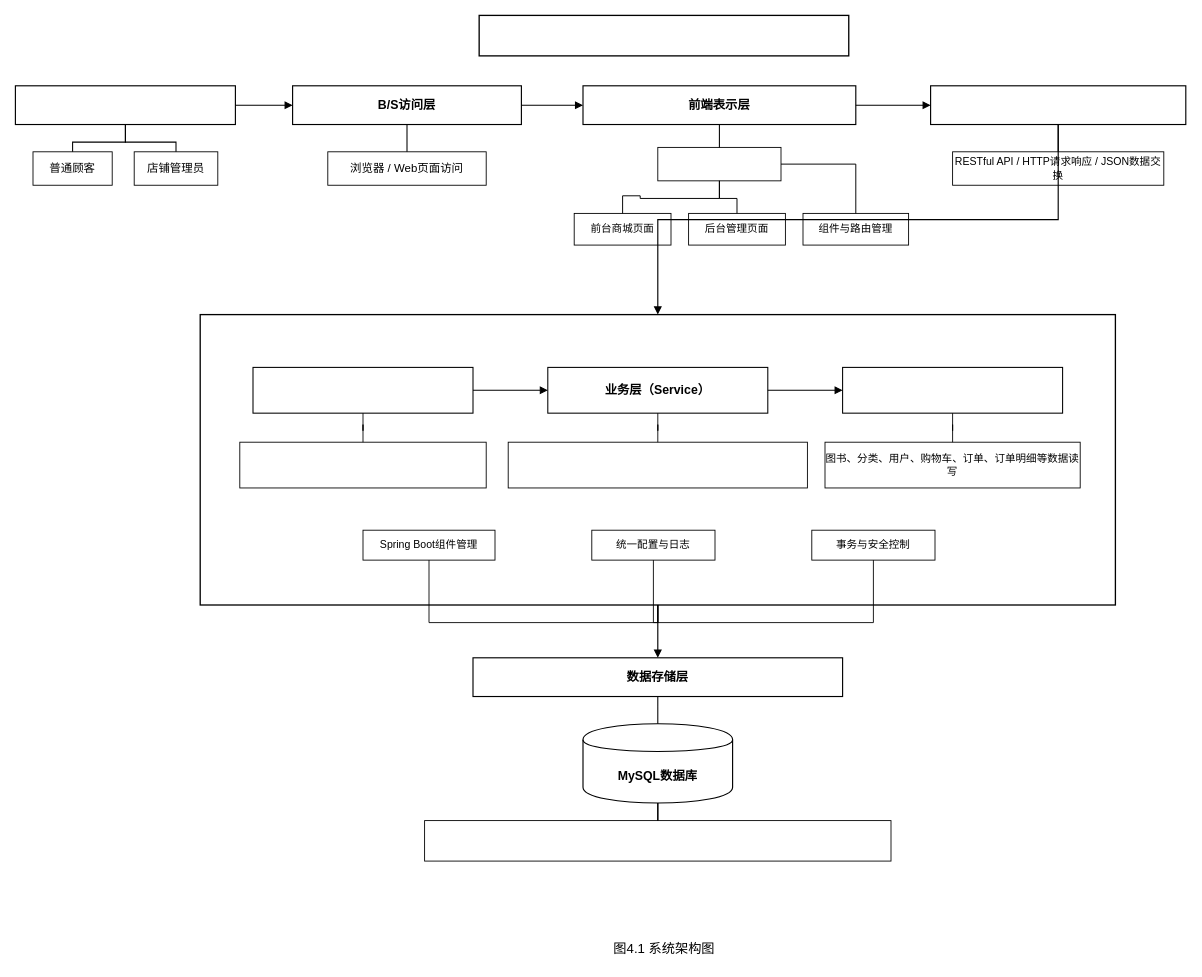
The diagram is 1202 pixels wide and 977 high, and some of its shapes have lost their labels. Here are the shapes that lost their labels. From the top down, the centre of each, then its label:
[663,35]: 图书商城管理系统架构
[125,105]: 用户层
[1058,105]: 前后端通信
[719,164]: Vue单页面应用
[362,389]: 接口层（Controller）
[952,389]: 数据访问层（MyBatis / Mapper）
[362,464]: 请求接收、参数校验、结果封装、异常处理、权限拦截
[657,464]: 用户认证、图书管理、购物车处理、订单生成、库存扣减、状态流转、事务控制
[657,840]: 存储图书信息、分类信息、用户信息、购物车记录、订单数据及系统配置数据
